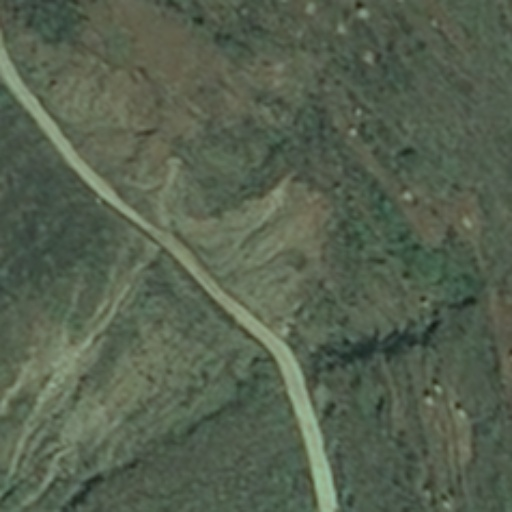landslide: (7, 301, 194, 496), (200, 180, 353, 294)
